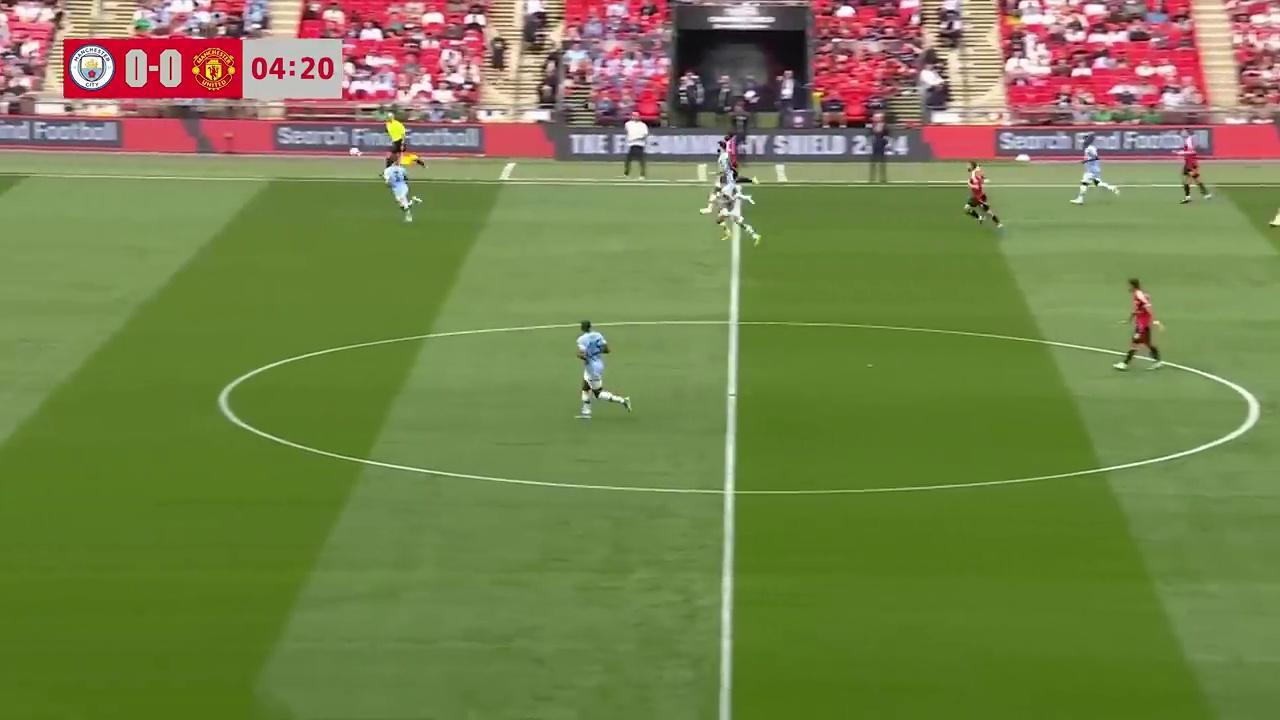player: (575, 319, 633, 419), (1114, 278, 1164, 370), (713, 175, 761, 245), (1070, 144, 1118, 205), (964, 163, 1003, 227), (381, 153, 415, 222), (1178, 140, 1212, 204), (699, 164, 729, 218), (1268, 181, 1280, 250)
referee: (385, 114, 412, 171)
